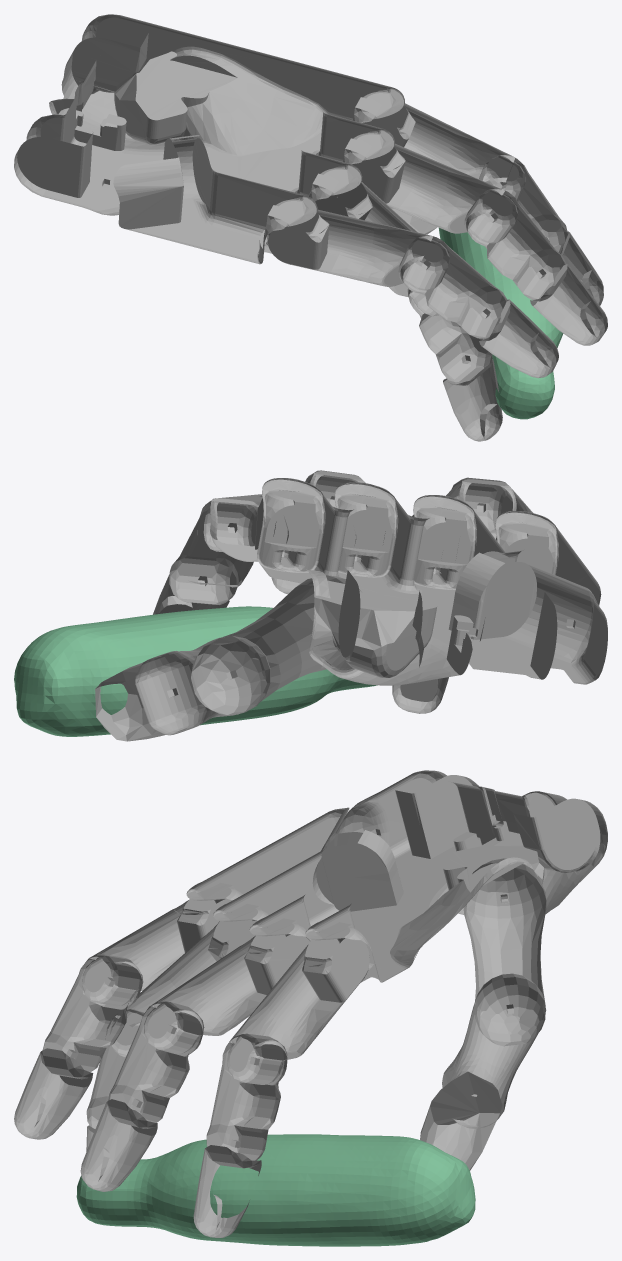
3 renders of one model, top to bottom at view 1: azimuth 30°, elevation 25°; view 2: azimuth 150°, elevation 25°; view 3: azimuth 270°, elevation 25°, orthographic. The views are drawn at different scales.
Parts seen in each view (by area): view 1: world; view 2: world; view 3: world.
Part boxes in pixels (box(x1,y1,x2,y2)): world: box(14, 14, 607, 441); world: box(14, 470, 607, 741); world: box(14, 770, 607, 1246).
Size of the model in its own units: 1.28 by 0.7337 by 1.2.
